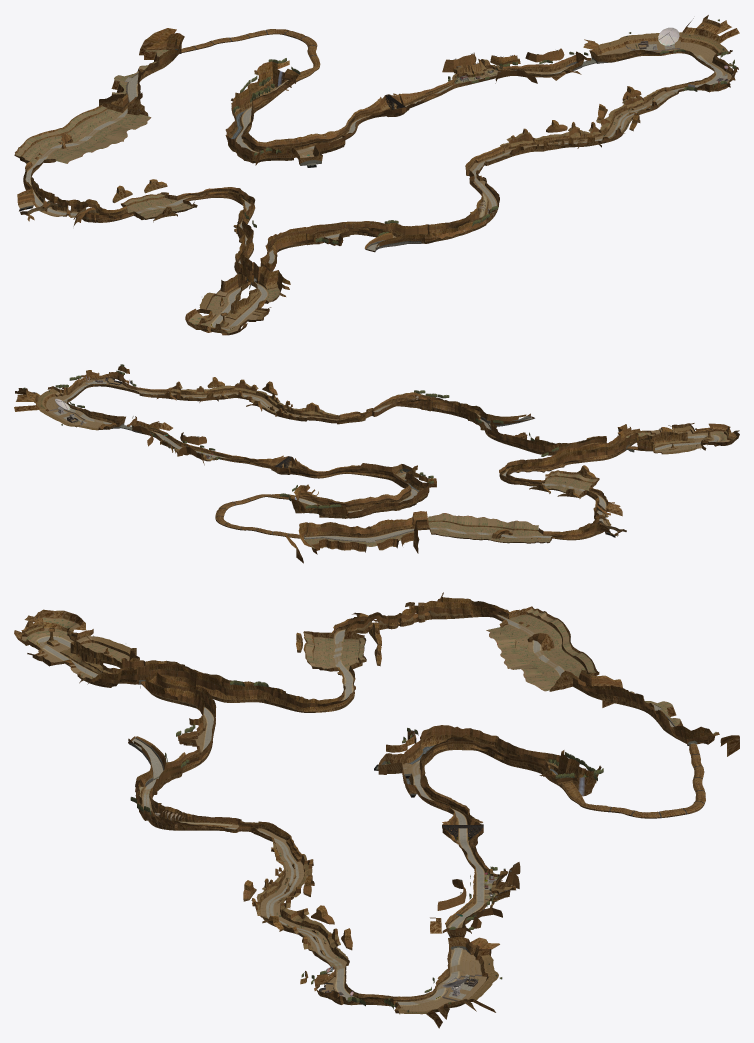
The model's file is redrock ridge.glb.
3 renders of one model, top to bottom at view 1: azimuth 30°, elevation 25°; view 2: azimuth 150°, elevation 25°; view 3: azimuth 270°, elevation 25°, orthographic. The views are drawn at different scales.
Visible parts, largest first — view 1: amesh, atrees; view 2: amesh, atrees; view 3: amesh, atrees.
Part boxes in pixels (x1=…): amesh: x1=14, y1=15, x2=739, y2=335; atrees: x1=26, y1=19, x2=736, y2=315; amesh: x1=14, y1=365, x2=739, y2=563; atrees: x1=23, y1=364, x2=700, y2=539; amesh: x1=14, y1=592, x2=739, y2=1028; atrees: x1=73, y1=614, x2=603, y2=1012.
Size of what is drawn, in the model's own units: 2573 by 155 by 1861.
Materials: 2 (2 with a texture image).
